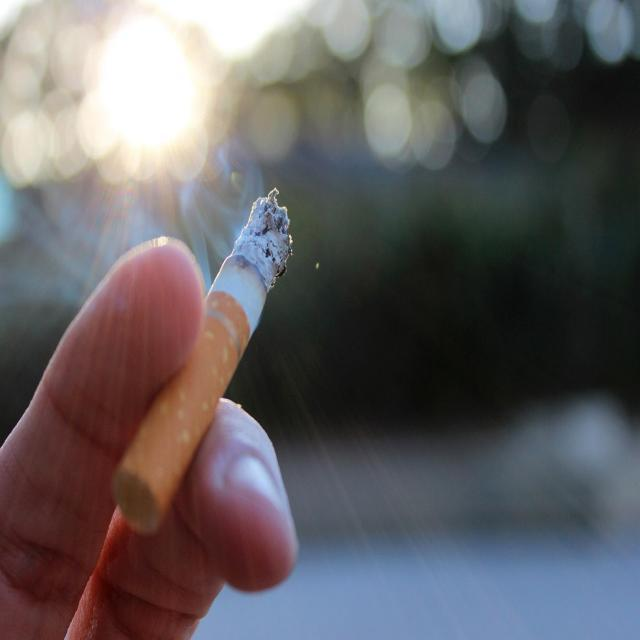cigarette: (111, 171, 308, 526)
